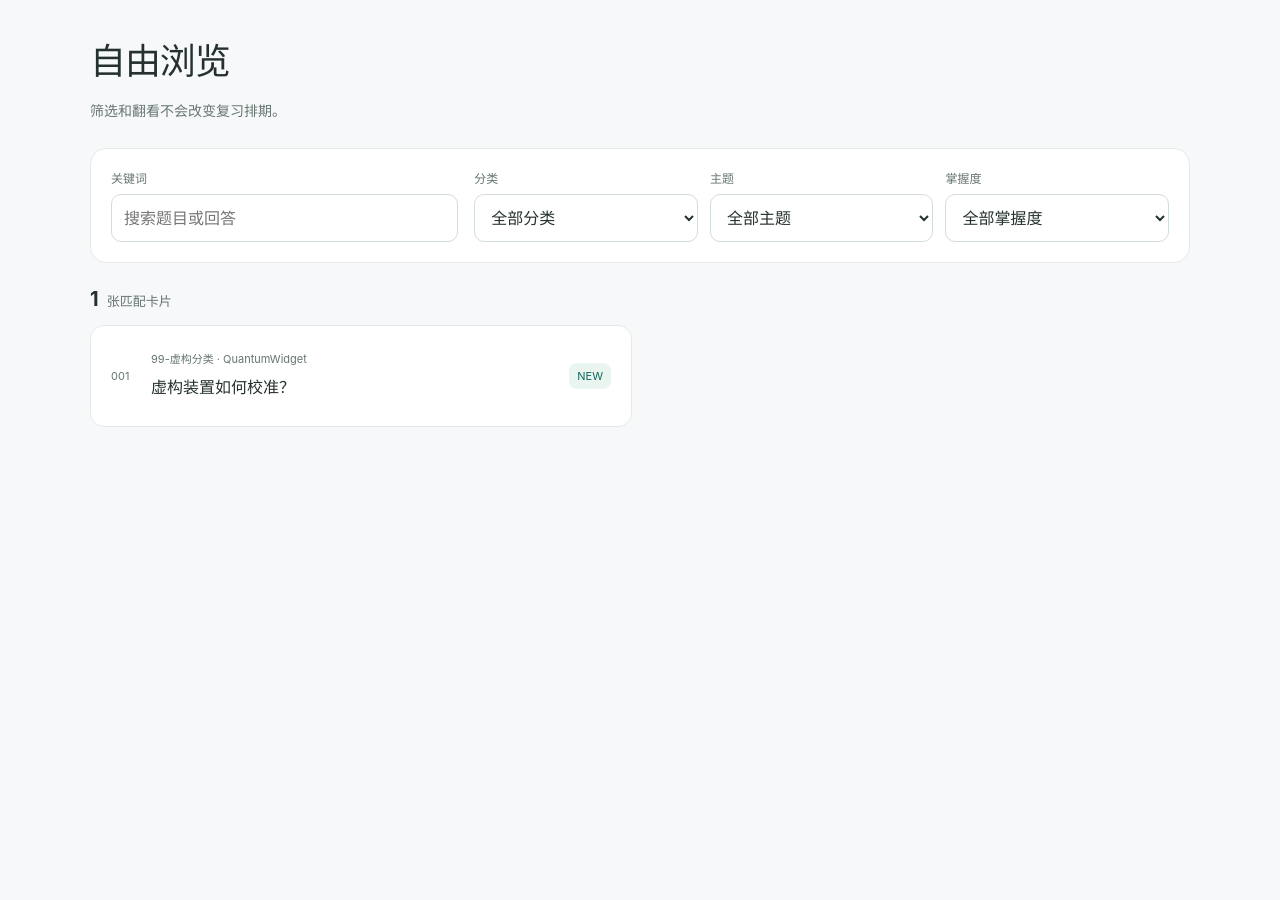
BrowseScreen › searches every answer section and keeps the complete answer available
This screenshot has width=1280, height=900.
Type "蓝色偏移" into the search field labelled "关键词" at coordinates (285, 218), box [111,194,458,242]
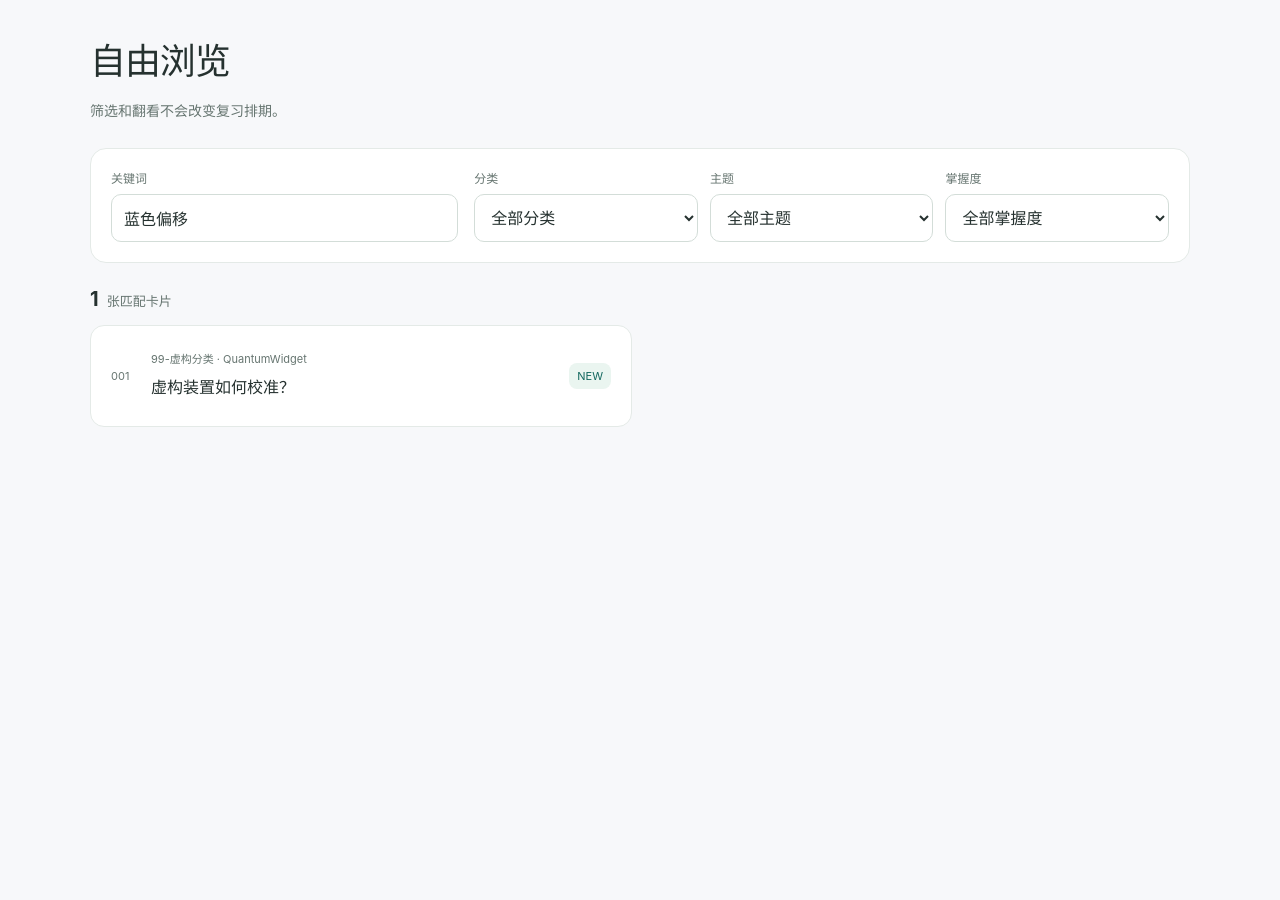
Expected: the text "虚构装置如何校准？" is shown, [151,377,295,397]
Click the button "001 99-虚构分类 · QuantumWidget 虚构装置如何校准？ NEW" at coordinates (182, 359), box [91,326,631,426]
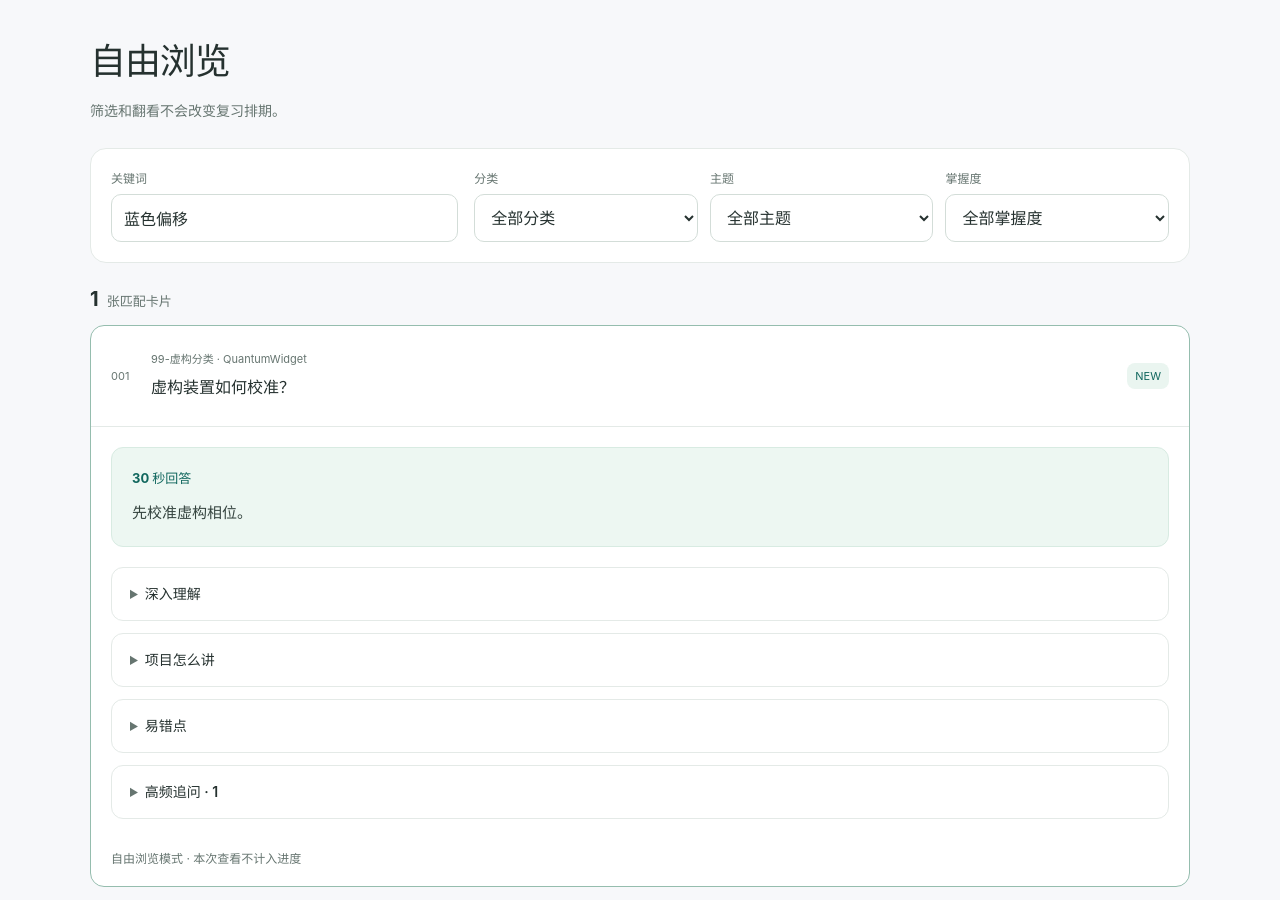
Expected: the heading "30 秒回答" is shown, [132,470,191,486]
Expected: the heading "深入理解" is shown, [145,585,201,602]
Expected: the heading "项目怎么讲" is shown, [145,651,215,668]
Click the heading "高频追问 · 1" at coordinates (182, 791), box [145,783,218,800]
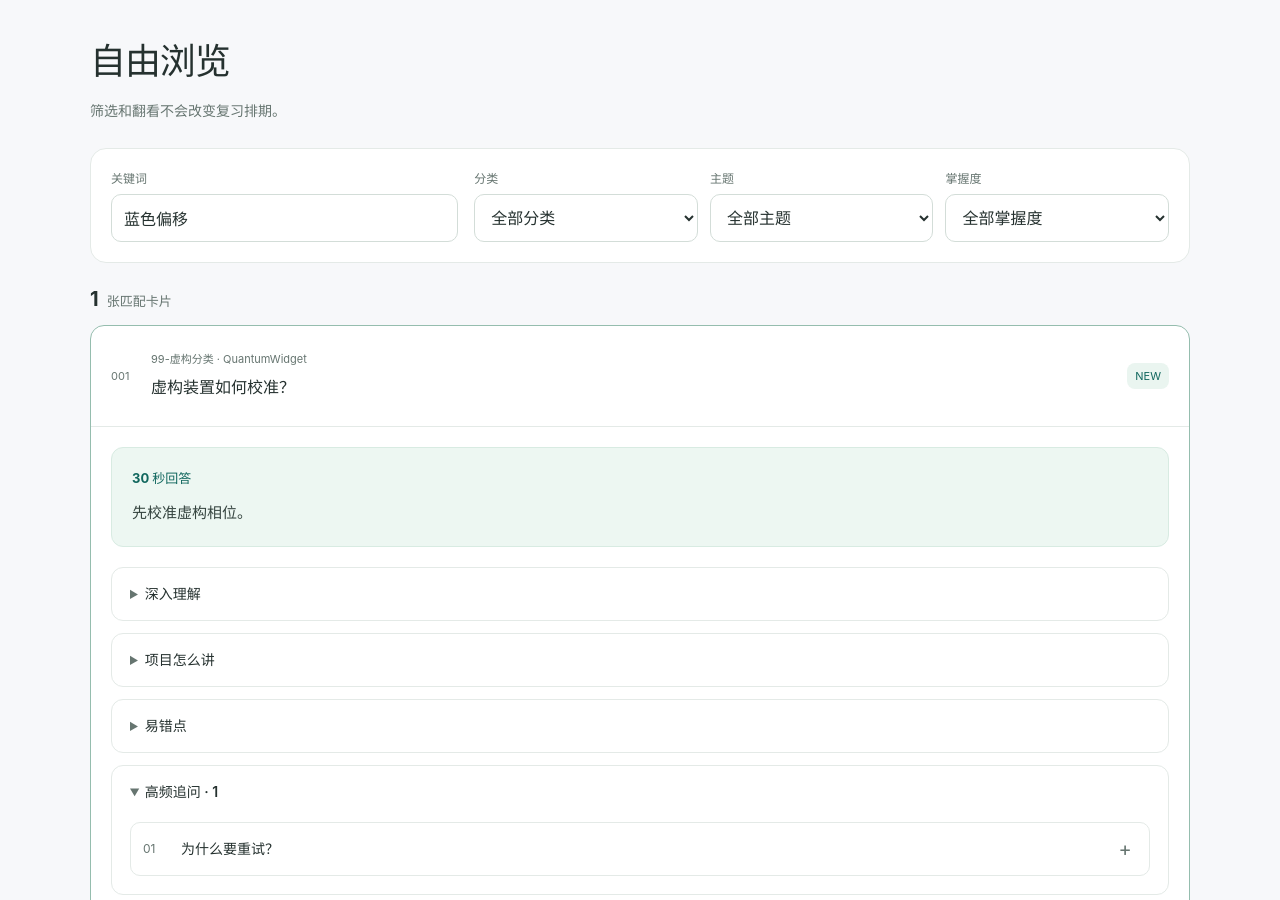
Expected: the text "为了消除虚构噪声。" is not shown
Click the button "01 为什么要重试？ +" at coordinates (230, 848), box [131,823,1149,875]
(page scrolled)
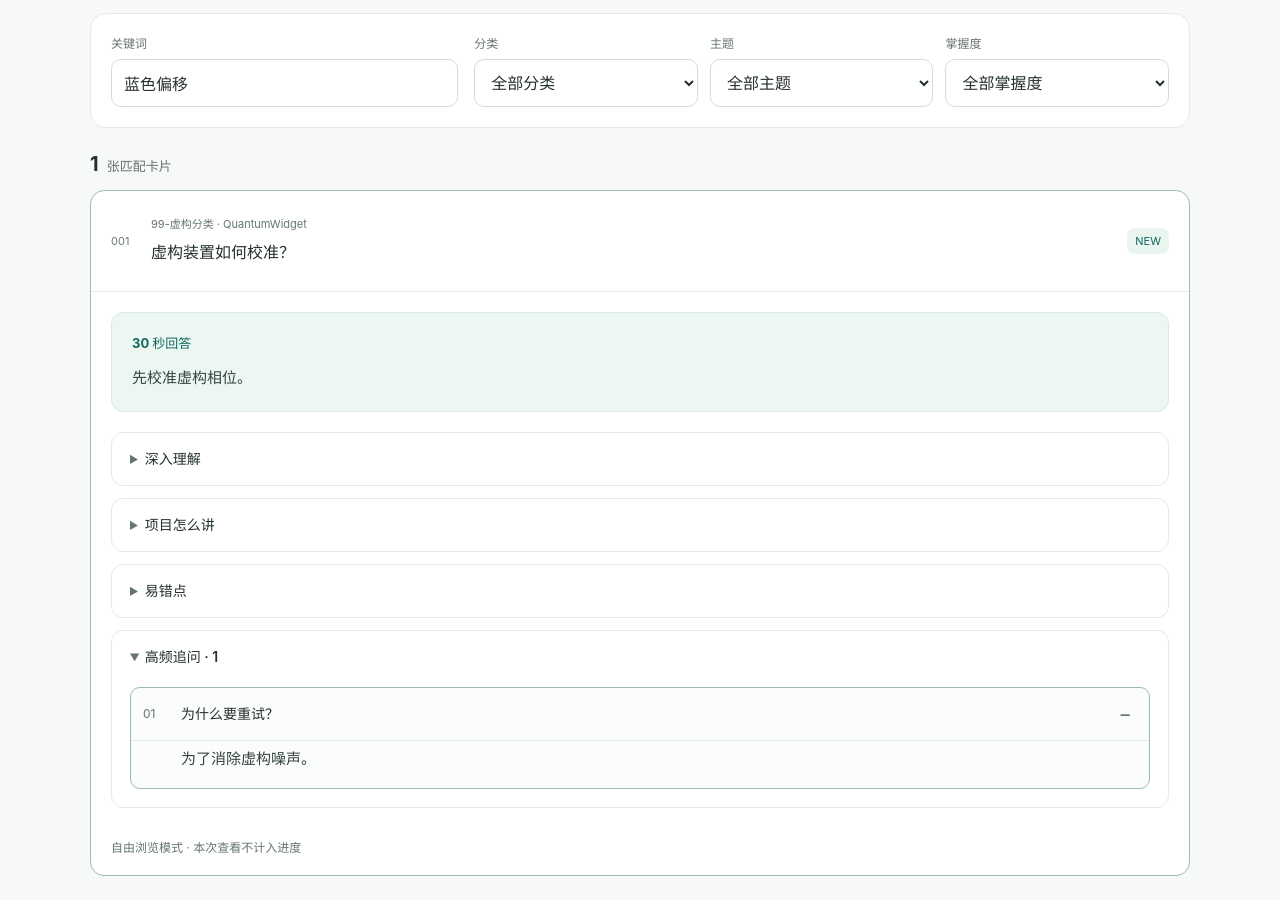
Expected: the text "为了消除虚构噪声。" is shown, [181,749,316,768]
